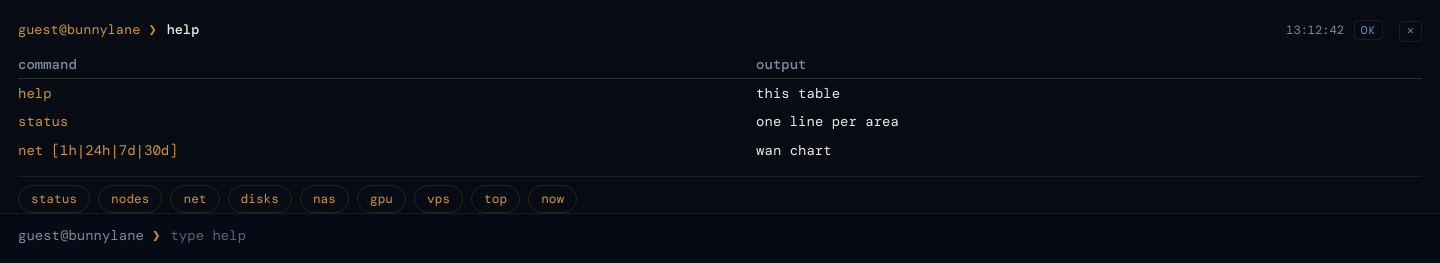
Test: Tab completes and Ctrl+L clears
The width and height of the screenshot is (1440, 263).
Check: the text "this table" is shown, box [756,78,1422,107]
Type "sta" into the field named "command" at (795, 236), box [168,224,1422,247]
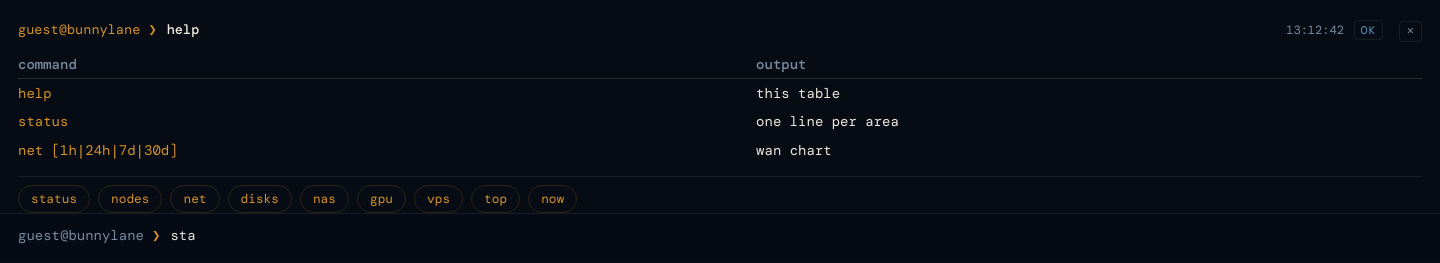
Press Tab
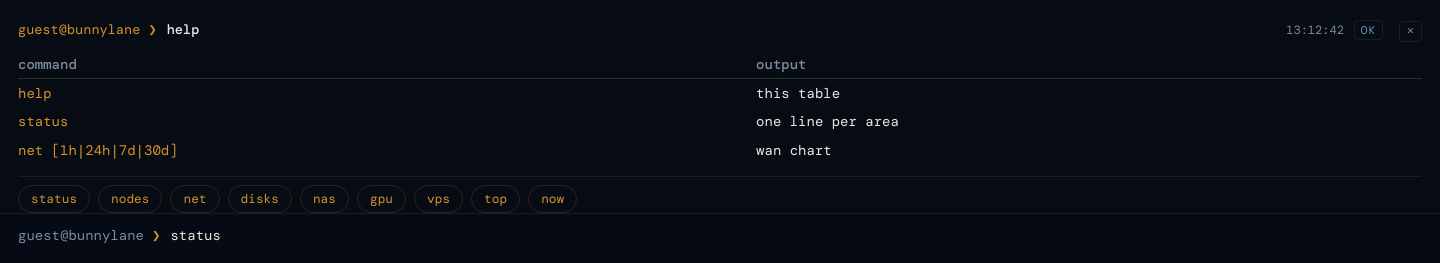
Check: the field named "command" holds "status", box [168,224,1422,247]
Type keys "{Control>}l{/Control}"
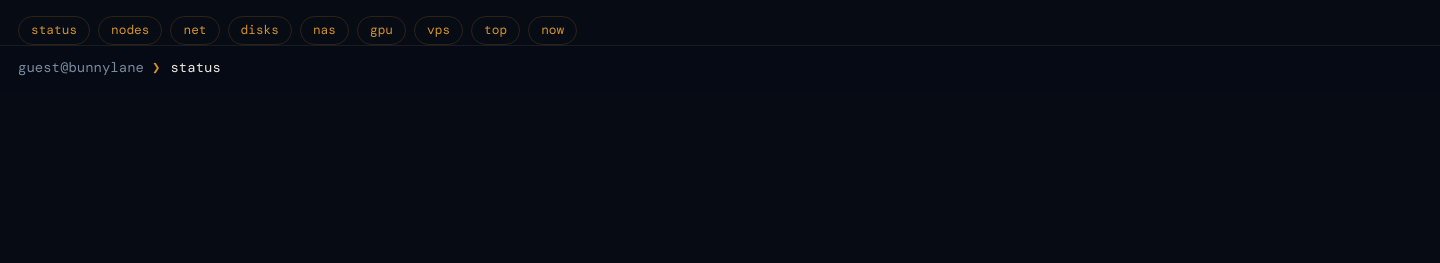
Check: the text "this table" is gone
